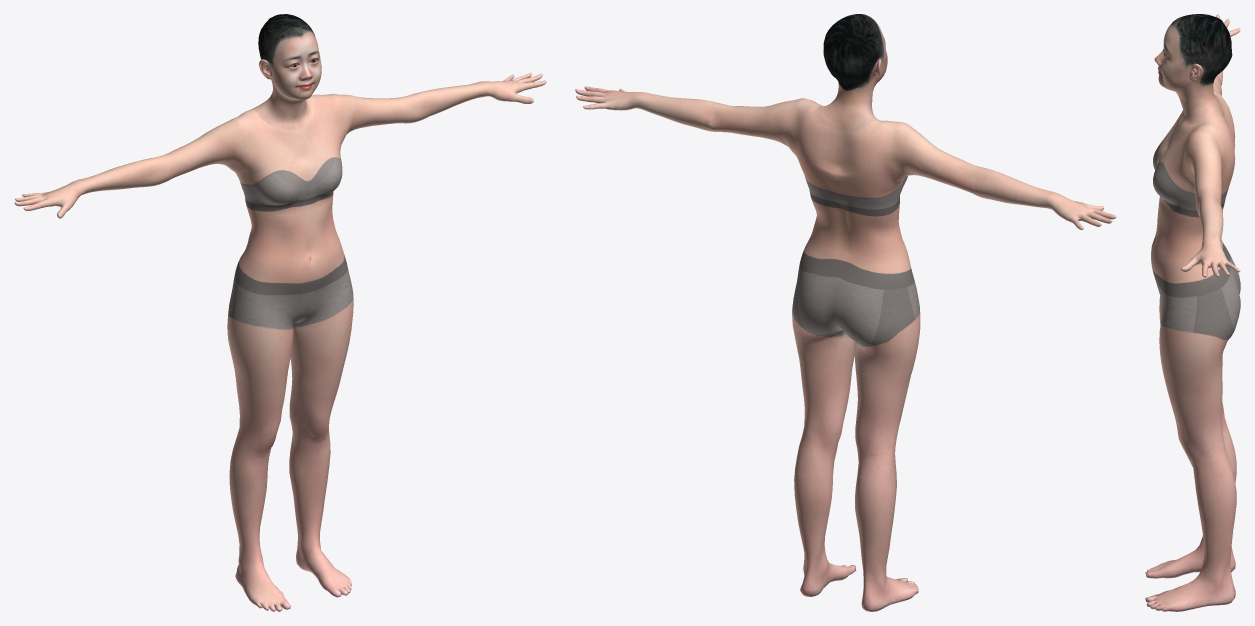
Rendered from full_body.obj.
The picture shows the model from 3 angles, left to right: view 1: azimuth 30°, elevation 25°; view 2: azimuth 150°, elevation 25°; view 3: azimuth 270°, elevation 25°; orthographic projection.
Bounding box in the file's own units: 1.7 × 1.75 × 0.2636.
Materials: 1 (1 with a texture image).
